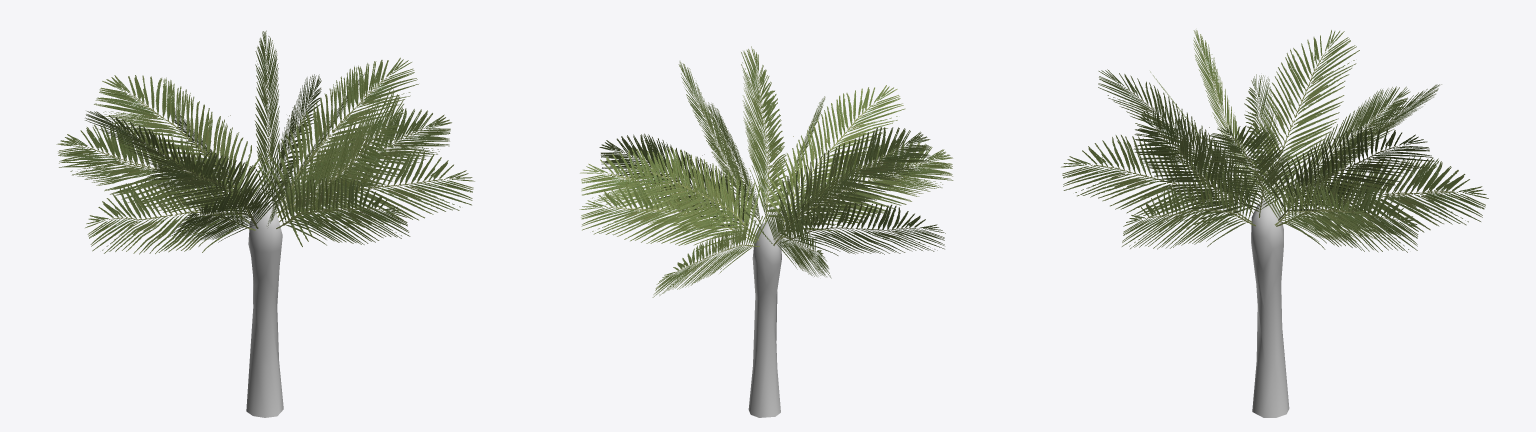
File: palm_tree_5_LOD1.FBX
The picture shows the model from 3 angles, left to right: view 1: azimuth 30°, elevation 25°; view 2: azimuth 150°, elevation 25°; view 3: azimuth 270°, elevation 25°; orthographic projection. The views are drawn at different scales.
Visible parts, largest first — view 1: Plane001, Cylinder001; view 2: Plane001, Cylinder001; view 3: Plane001, Cylinder001.
Boxes of the visible parts, left/top/right/bottom form: Plane001: left=56, top=30, right=474, bottom=254; Cylinder001: left=246, top=203, right=283, bottom=417; Plane001: left=579, top=46, right=953, bottom=297; Cylinder001: left=748, top=219, right=781, bottom=417; Plane001: left=1061, top=30, right=1488, bottom=252; Cylinder001: left=1251, top=198, right=1289, bottom=417.
Size of the model in its own units: 17.2 by 16.76 by 14.11.
